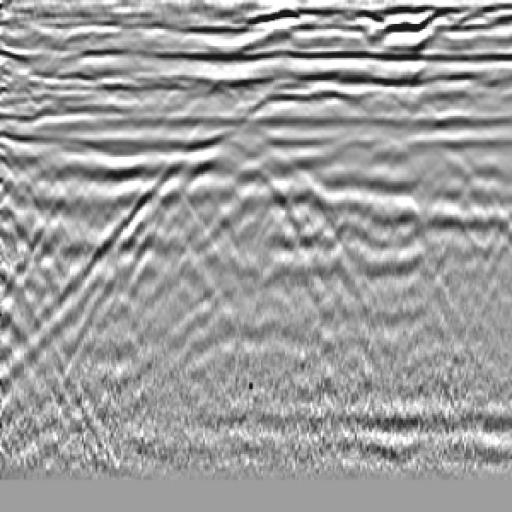non-metallic: (16, 124, 385, 392)
